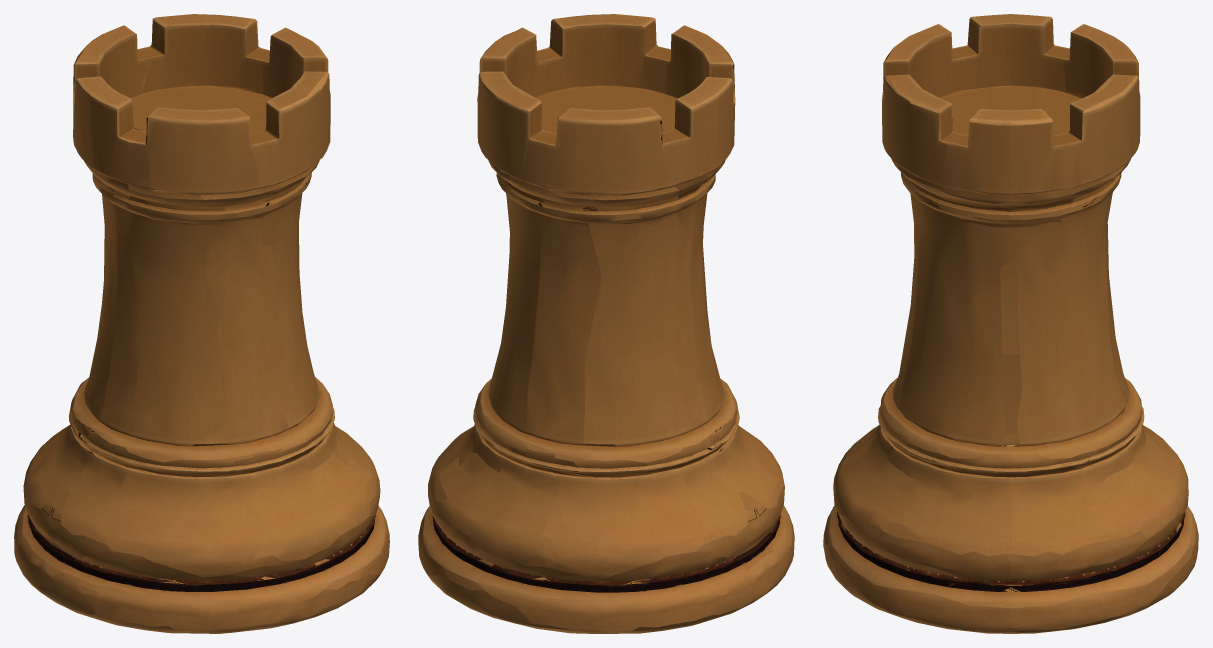
The model's file is 09_rook_light.glb.
The picture shows the model from 3 angles, left to right: view 1: azimuth 30°, elevation 25°; view 2: azimuth 150°, elevation 25°; view 3: azimuth 270°, elevation 25°; orthographic projection.
Parts seen in each view (by area): view 1: world; view 2: world; view 3: world.
Part boxes in pixels (x1,y1,x2,y2): world: (14,14,389,633); world: (418,14,794,633); world: (823,14,1198,633).
Bounding box in the file's own units: 0.6897 × 1 × 0.69.
Materials: 1 (1 with a texture image).
